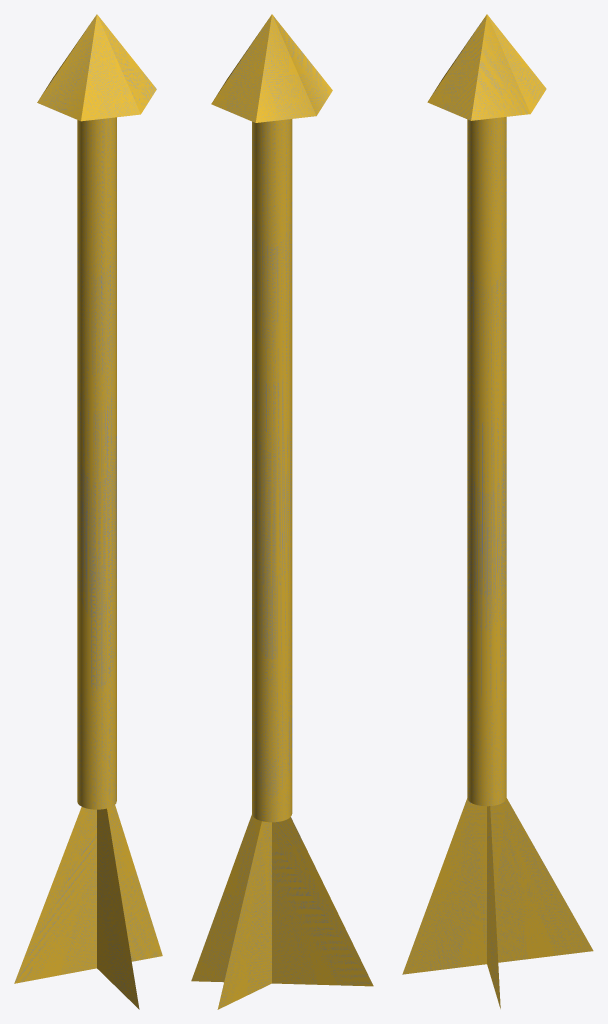
The model's file is szczala.fbx.
3 renders of one model, left to right at view 1: azimuth 30°, elevation 25°; view 2: azimuth 150°, elevation 25°; view 3: azimuth 270°, elevation 25°, orthographic. The views are drawn at different scales.
Parts seen in each view (by area): view 1: Model; view 2: Model; view 3: Model.
Part boxes in pixels (left/top/right/bottom): Model: left=14, top=14, right=162, bottom=1009; Model: left=191, top=14, right=373, bottom=1009; Model: left=402, top=14, right=593, bottom=1008.
Bounding box in the file's own units: 3.13 × 17.55 × 3.17.
